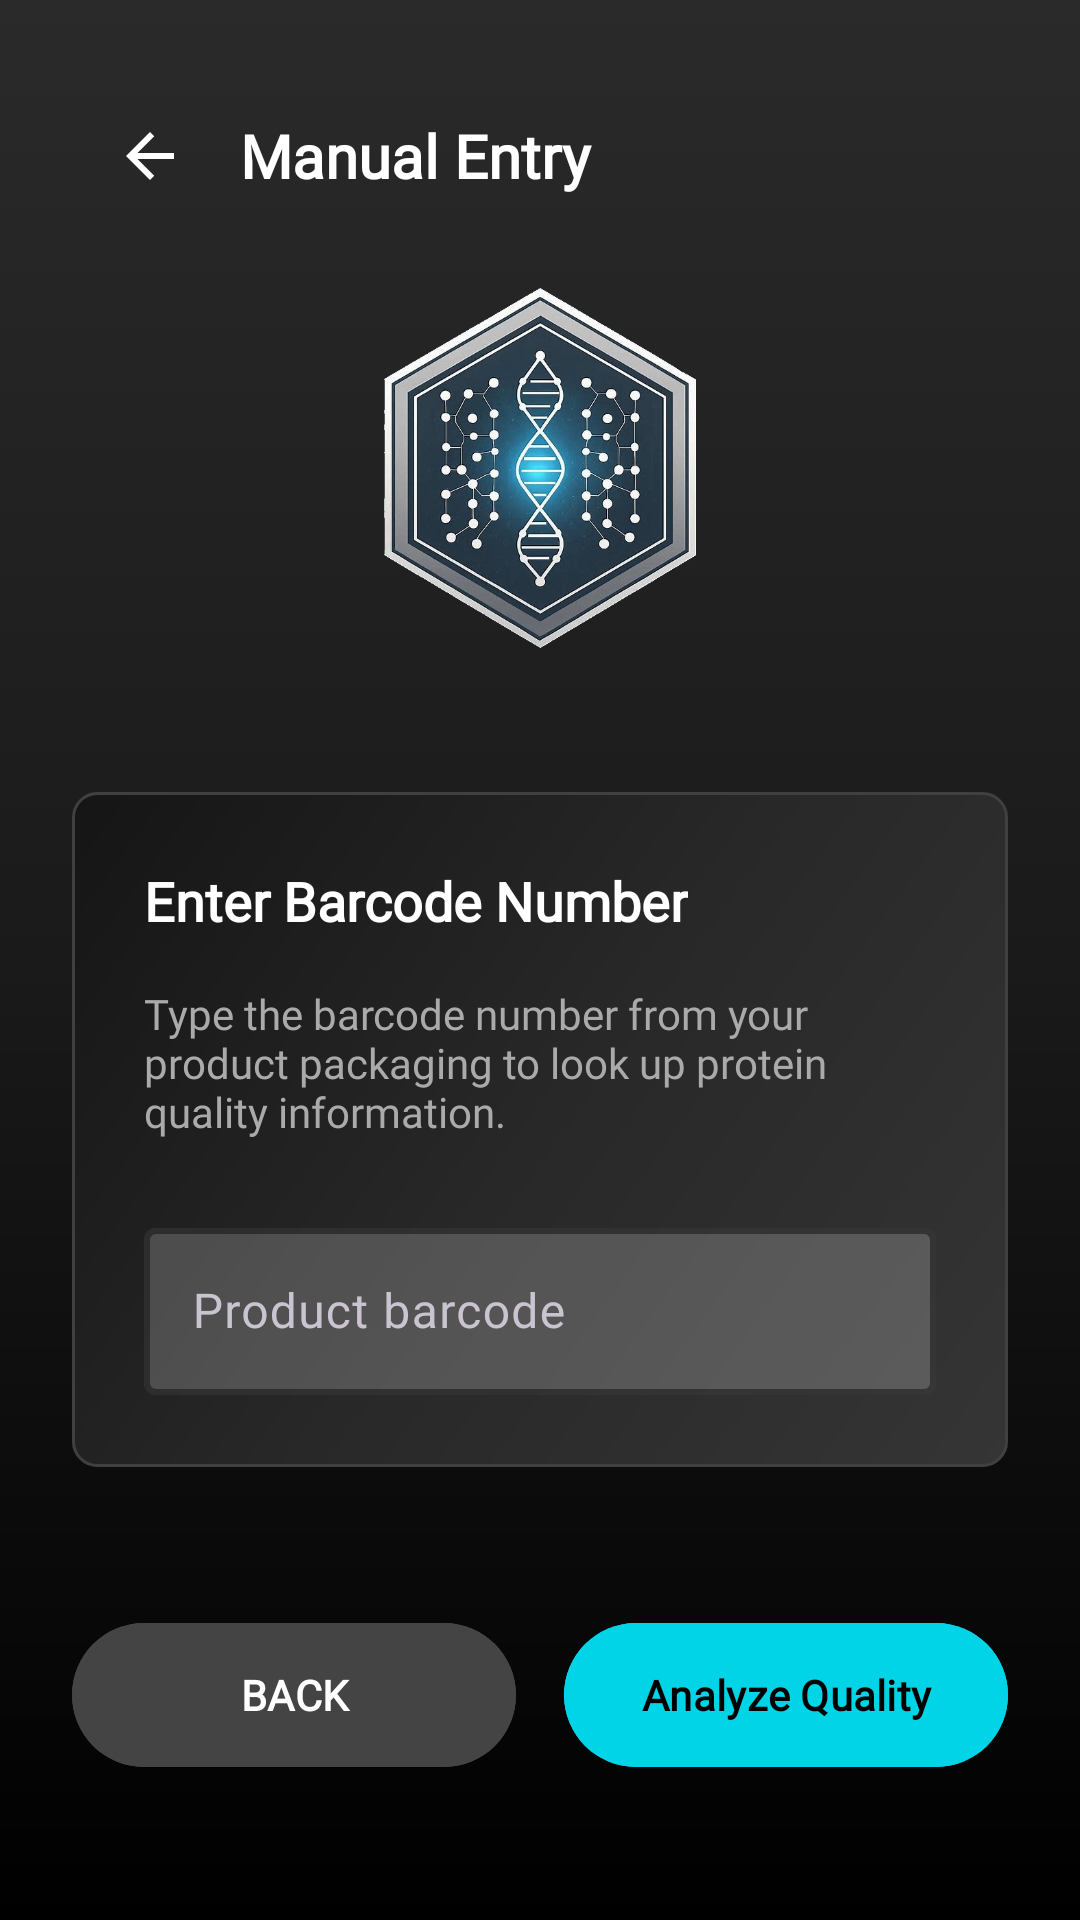

Where to tap for icons on this 1080 × 1920 app screen, as point (x, y):
back: point (150, 156)
